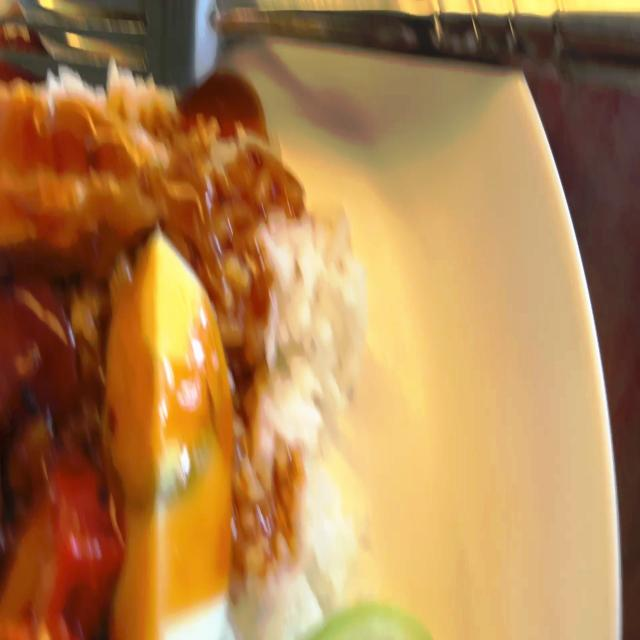boiled_egg: (106, 245, 226, 640)
chainese_sausage: (0, 268, 73, 416)
crispy_pork: (0, 95, 145, 251)
red_pork: (7, 450, 115, 640)
red_pork_and_crispy_pork: (0, 64, 368, 640)
